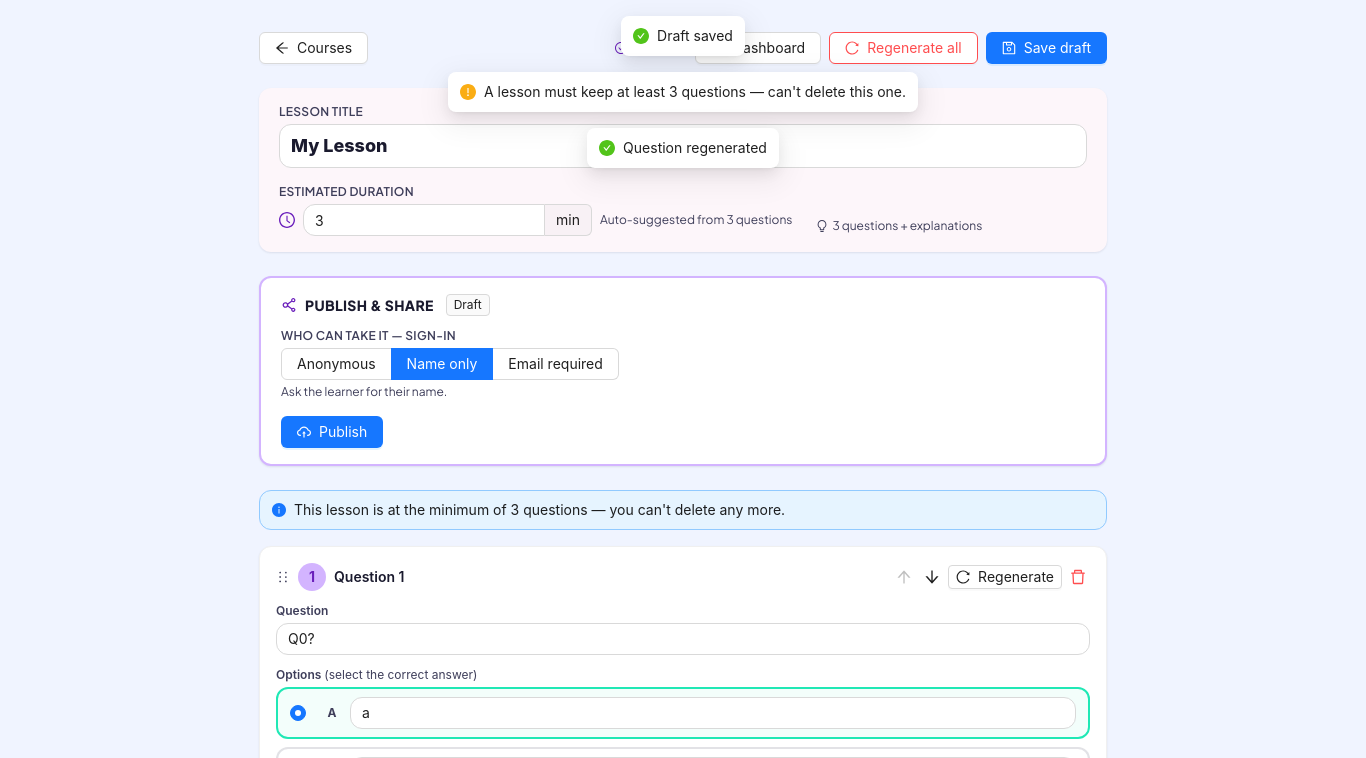
CourseLessonDetail.vue › enables Publish once reviewed and shows the link modal on publish
Click the button "Publish" at [332, 432], box [281,416,383,448]
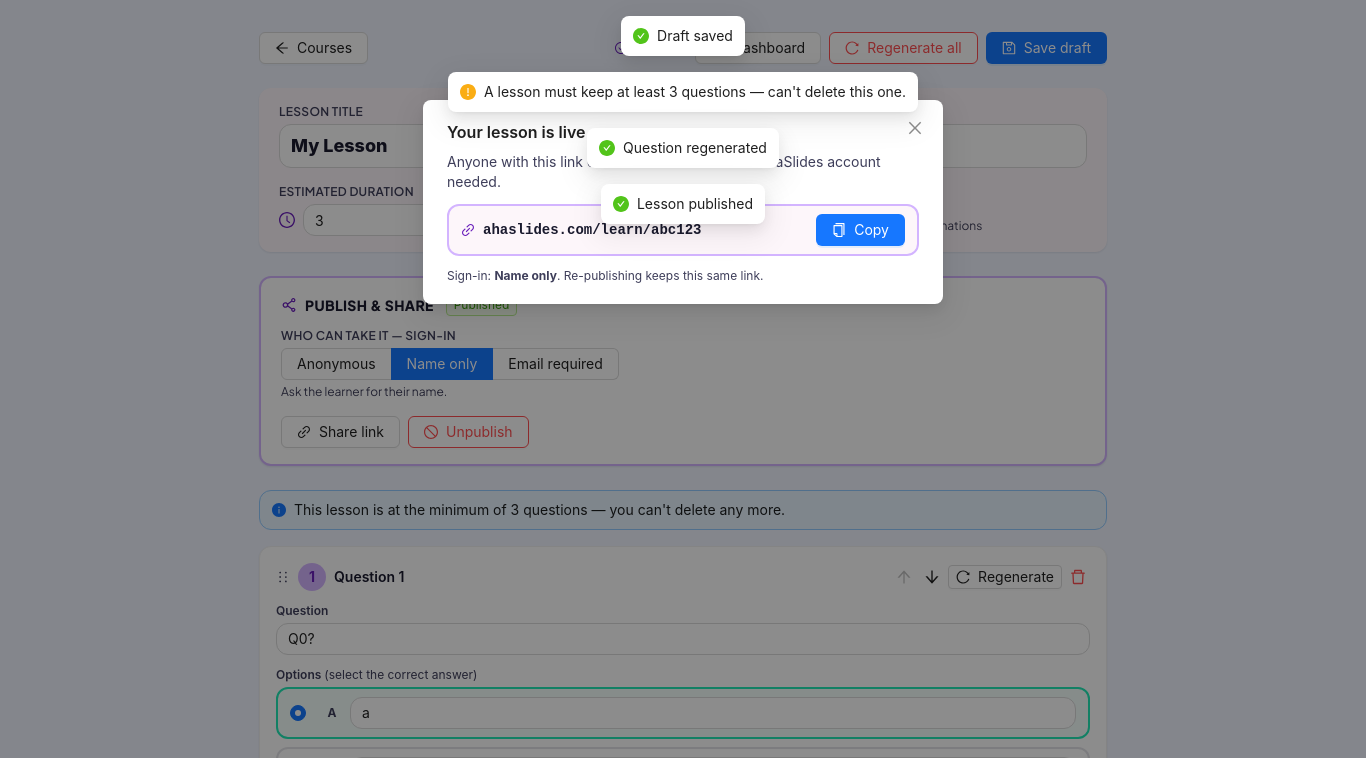
Result: the text "ahaslides.com/learn/abc123" is shown at [483,222,701,238]
